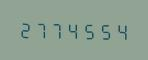five: (81, 20, 96, 40), (97, 20, 112, 40)
four: (65, 19, 80, 40), (113, 20, 128, 40)
seven: (33, 19, 48, 39), (49, 19, 64, 39)
two: (17, 19, 32, 39)
